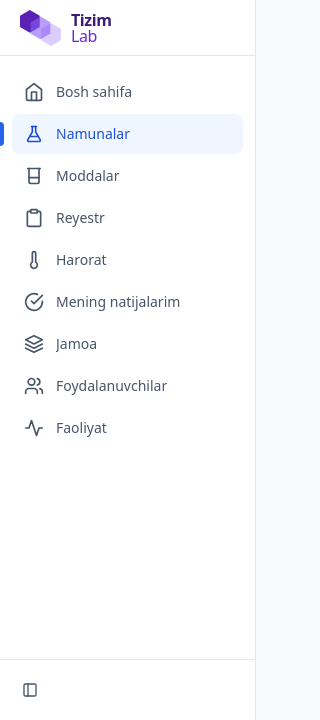
Sidebar: ixchamlashtirish › yig'ish tugmasi: matn faqat ekran o'quvchiga, tanlov saqlanadi, faol sahifa aria-current
The width and height of the screenshot is (320, 720).
Click the button named "Menyuni yig'ish".
click(30, 690)  # box [12, 672, 48, 708]
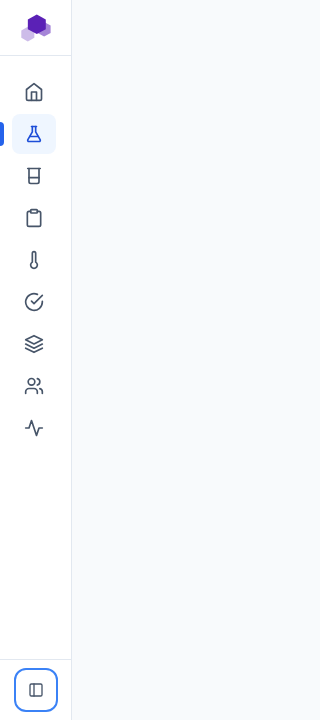
Check: the 2nd link named "Namunalar" is shown, box [12, 114, 56, 154]
Check: the button named "Menyuni yoyish" is collapsed, box [18, 672, 54, 708]
